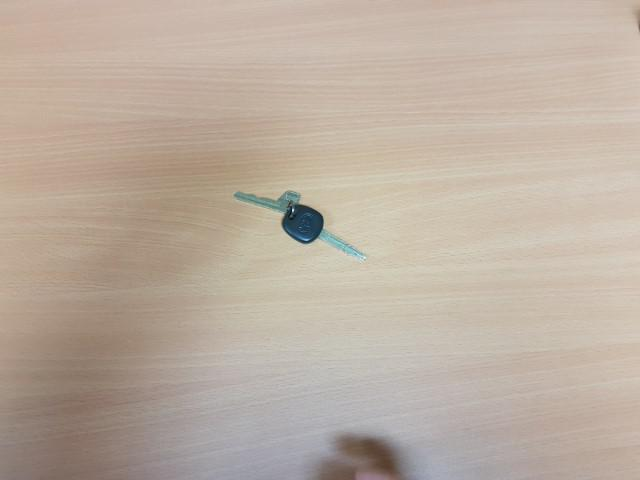key: (283, 204, 367, 261)
